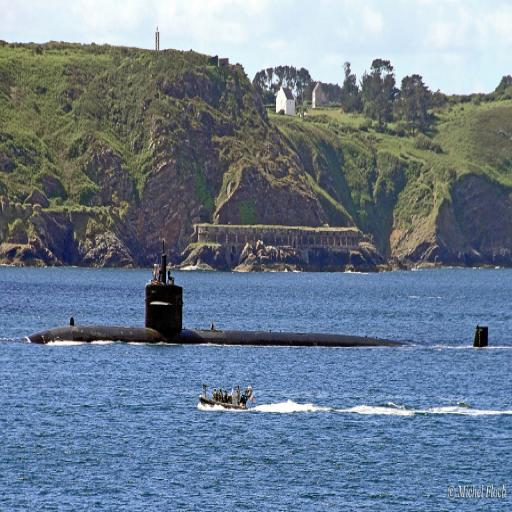submarine: (25, 248, 498, 346)
